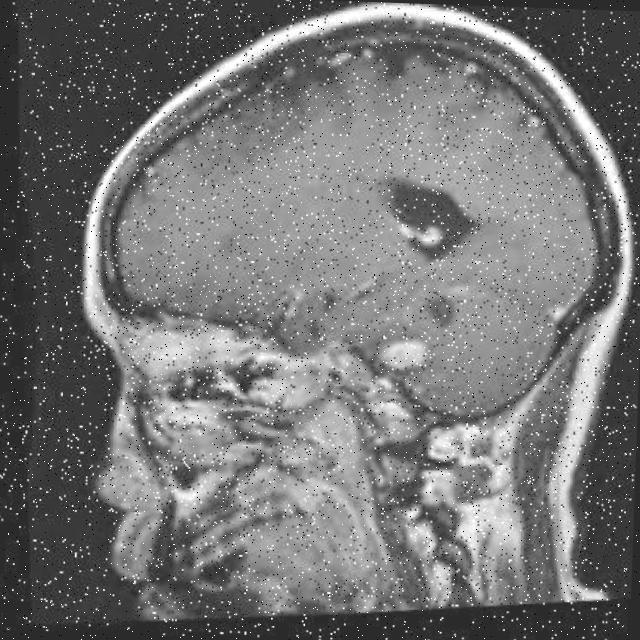LMCI: (378, 146, 520, 352)
